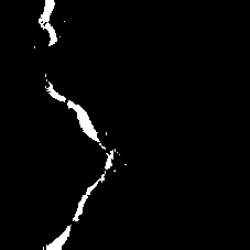crack: (36, 68, 126, 247), (36, 1, 60, 51)
